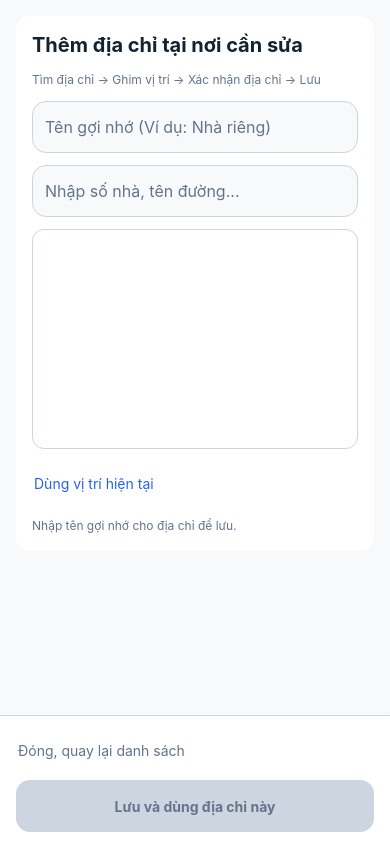
Test case: cancels a stale reverse spinner when current-location permission is denied
In the field with placeholder "Tên gợi nhớ (Ví dụ: Nhà riêng)": (195, 127) [32, 101, 358, 153], type "Nhà mới"
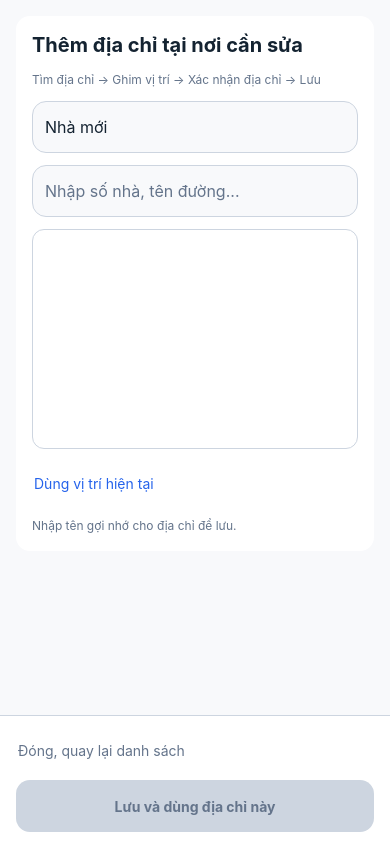
In the field with placeholder "Nhập số nhà, tên đường...": (195, 191) [32, 165, 358, 217], type "50 Phố Mới"
Wait 350 ms
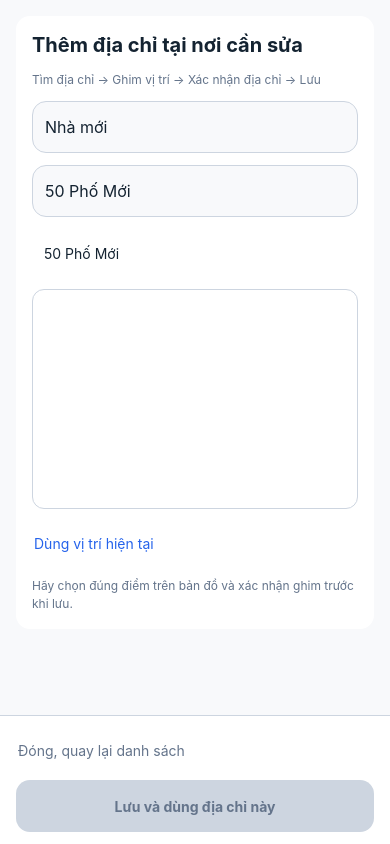
Click the button "50 Phố Mới": (82, 253) [32, 229, 358, 277]
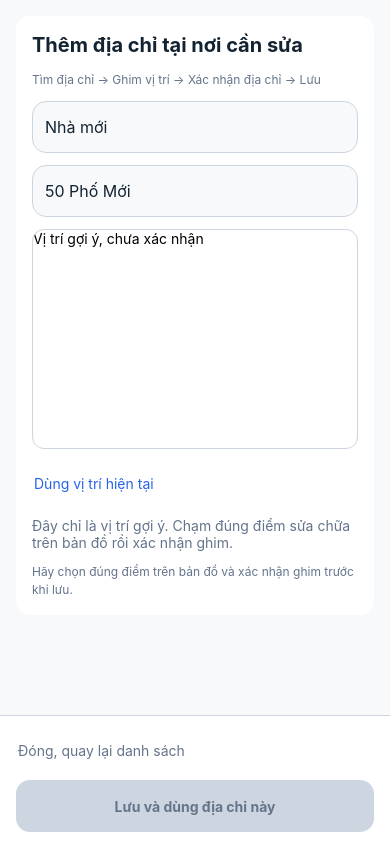
Click the element showing "Vị trí gợi ý, chưa xác nhận": (118, 238) [33, 230, 204, 247]
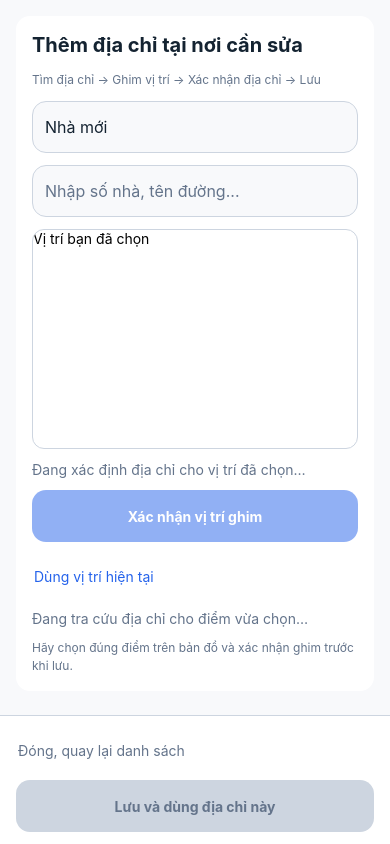
Expected: the text "Đang xác định địa chỉ" is shown, [32, 461, 306, 478]
Click the button "Dùng vị trí hiện tại": (94, 576) [32, 554, 156, 598]
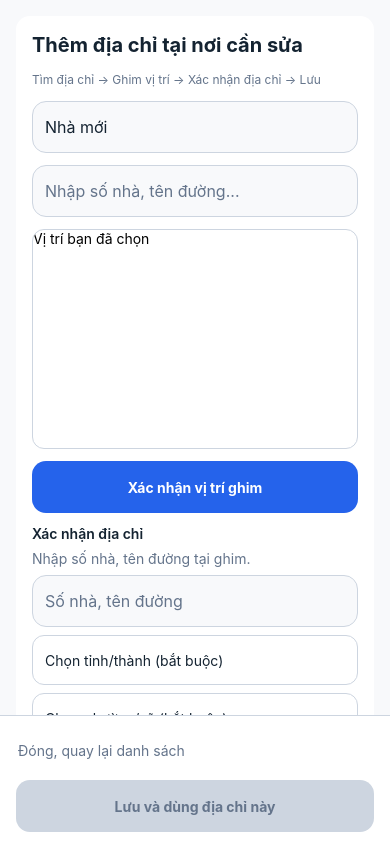
Expected: the text "Đang xác định địa chỉ" is gone
